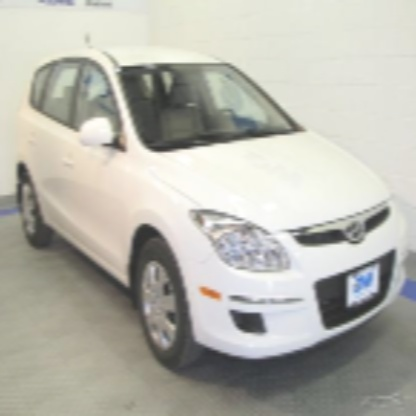Vehicle: (13, 29, 408, 371)
